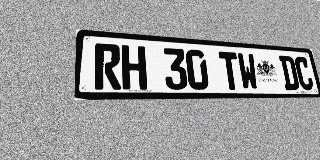0: (185, 49, 209, 90)
3: (163, 48, 188, 90)
C: (294, 56, 315, 90)
D: (279, 55, 300, 90)
H: (121, 45, 147, 90)
R: (94, 43, 121, 90)
T: (218, 51, 241, 90)
W: (237, 53, 259, 90)
